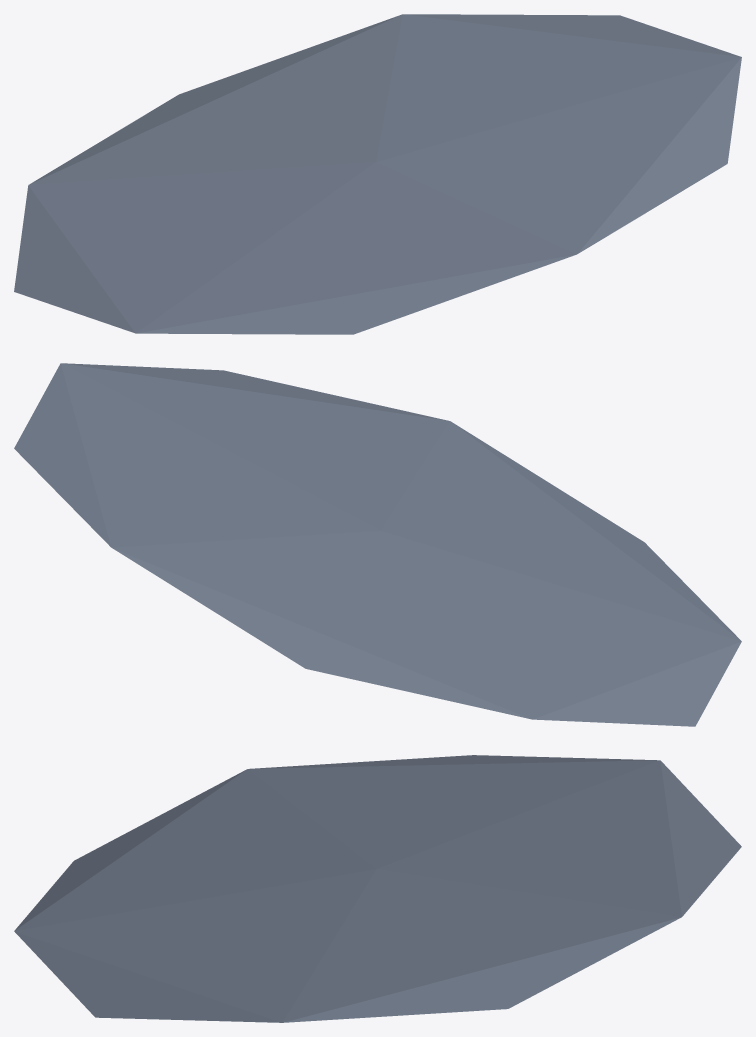
File: EXTG_SouthRoad_03.glb
3 views of the same model, one above another, from view 1: azimuth 30°, elevation 25°; view 2: azimuth 150°, elevation 25°; view 3: azimuth 270°, elevation 25° (orthographic). The views are drawn at different scales.
Visible parts, largest first — view 1: EXTG_SouthRoad_03; view 2: EXTG_SouthRoad_03; view 3: EXTG_SouthRoad_03.
Part boxes in pixels (<box>): EXTG_SouthRoad_03: <box>14,14,741,334</box>; EXTG_SouthRoad_03: <box>14,363,741,726</box>; EXTG_SouthRoad_03: <box>14,755,741,1022</box>.
Bounding box in the file's own units: 1.77 × 0.3214 × 1.24.
